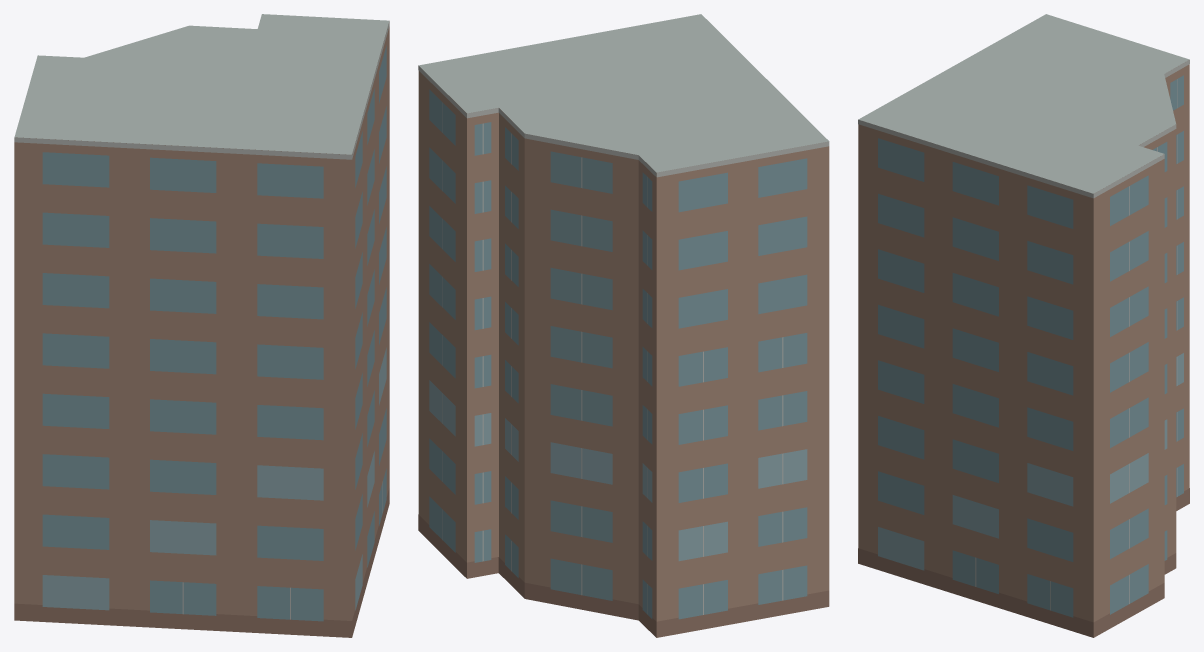
File: survey-upis-32971017.glb
3 views of the same model, side by side, from view 1: azimuth 30°, elevation 25°; view 2: azimuth 150°, elevation 25°; view 3: azimuth 270°, elevation 25° (orthographic). The views are drawn at different scales.
Visible parts, largest first — view 1: survey-upis-32971017.tmp; view 2: survey-upis-32971017.tmp; view 3: survey-upis-32971017.tmp.
Part boxes in pixels (x1,y1,x2,y2): survey-upis-32971017.tmp: [14, 14, 389, 637]; survey-upis-32971017.tmp: [418, 14, 829, 637]; survey-upis-32971017.tmp: [858, 14, 1189, 637].
Bounding box in the file's own units: 20.37 × 23.45 × 15.88.
